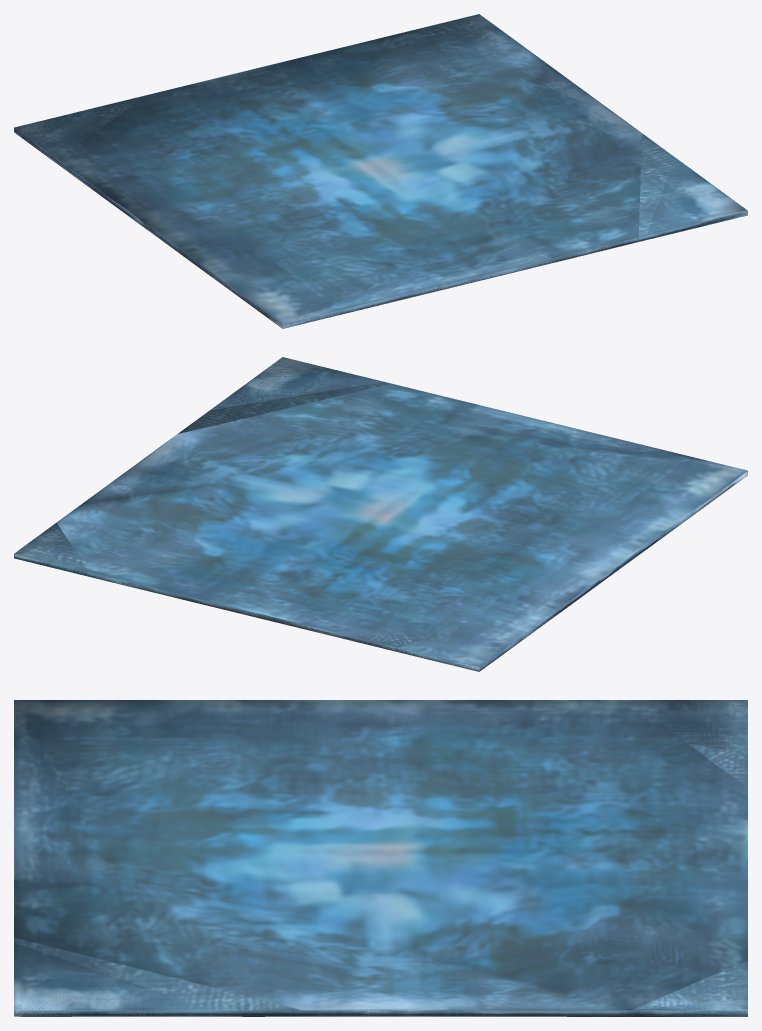
3 views of the same model, one above another, from view 1: azimuth 30°, elevation 25°; view 2: azimuth 150°, elevation 25°; view 3: azimuth 270°, elevation 25° (orthographic). The views are drawn at different scales.
Visible parts, largest first — view 1: ice-ground.002; view 2: ice-ground.002; view 3: ice-ground.002.
Part boxes in pixels (x1,y1,x2,y2): ice-ground.002: [14, 14, 747, 328]; ice-ground.002: [14, 357, 747, 671]; ice-ground.002: [14, 700, 747, 1016].
Size of the model in its own units: 32 by 0.35 by 32.
1 material, 1 textured.
